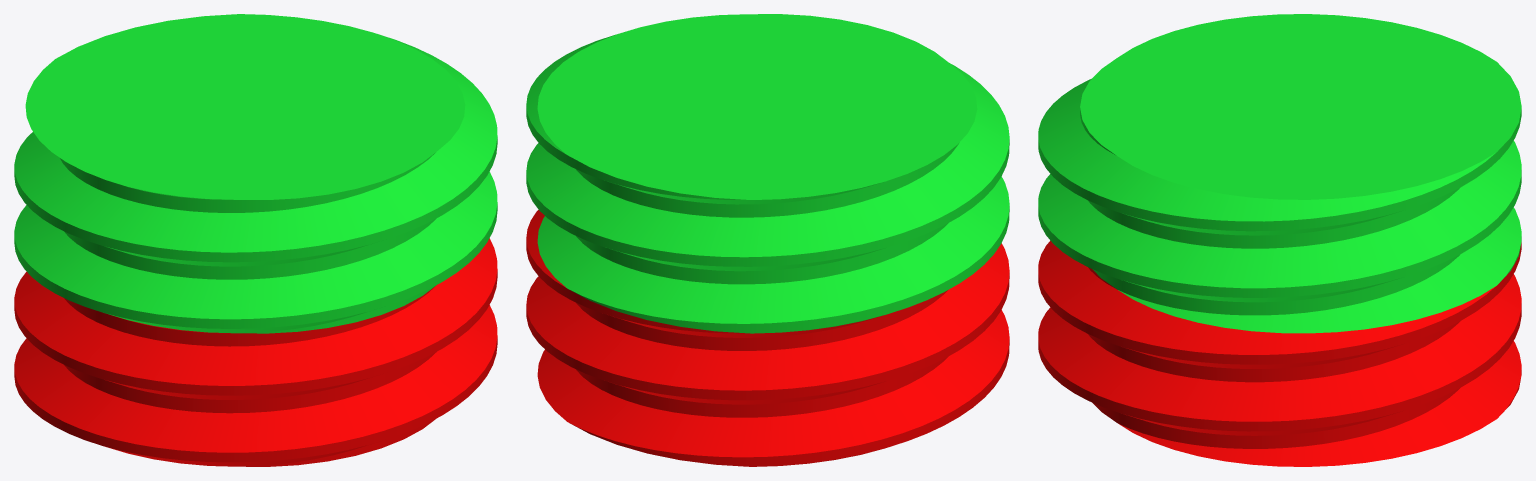
Rendered from COLORIDO.obj.
3 renders of one model, left to right at view 1: azimuth 30°, elevation 25°; view 2: azimuth 150°, elevation 25°; view 3: azimuth 270°, elevation 25°, orthographic.
Visible parts, largest first — view 1: Corpo2, Corpo1; view 2: Corpo2, Corpo1; view 3: Corpo2, Corpo1.
Part boxes in pixels (x1=…): Corpo2: x1=14, y1=14, x2=497, y2=333; Corpo1: x1=14, y1=238, x2=497, y2=466; Corpo2: x1=526, y1=14, x2=1009, y2=333; Corpo1: x1=526, y1=210, x2=1009, y2=466; Corpo2: x1=1038, y1=14, x2=1521, y2=333; Corpo1: x1=1038, y1=240, x2=1521, y2=466.
Bounding box in the file's own units: 0.9844 × 0.6 × 0.9847.
